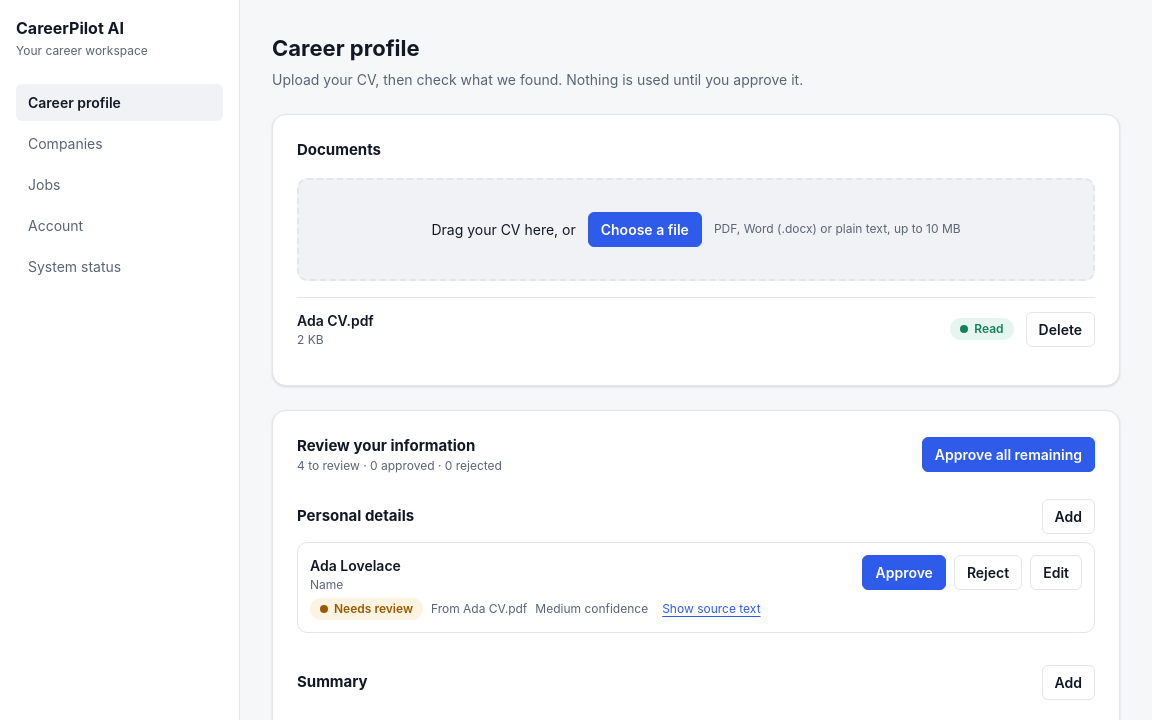
Test: career profile: review › approves everything remaining in one request
Click the button "Approve all remaining" at point(1008, 455), box x1=922 y1=437 x2=1095 y2=472
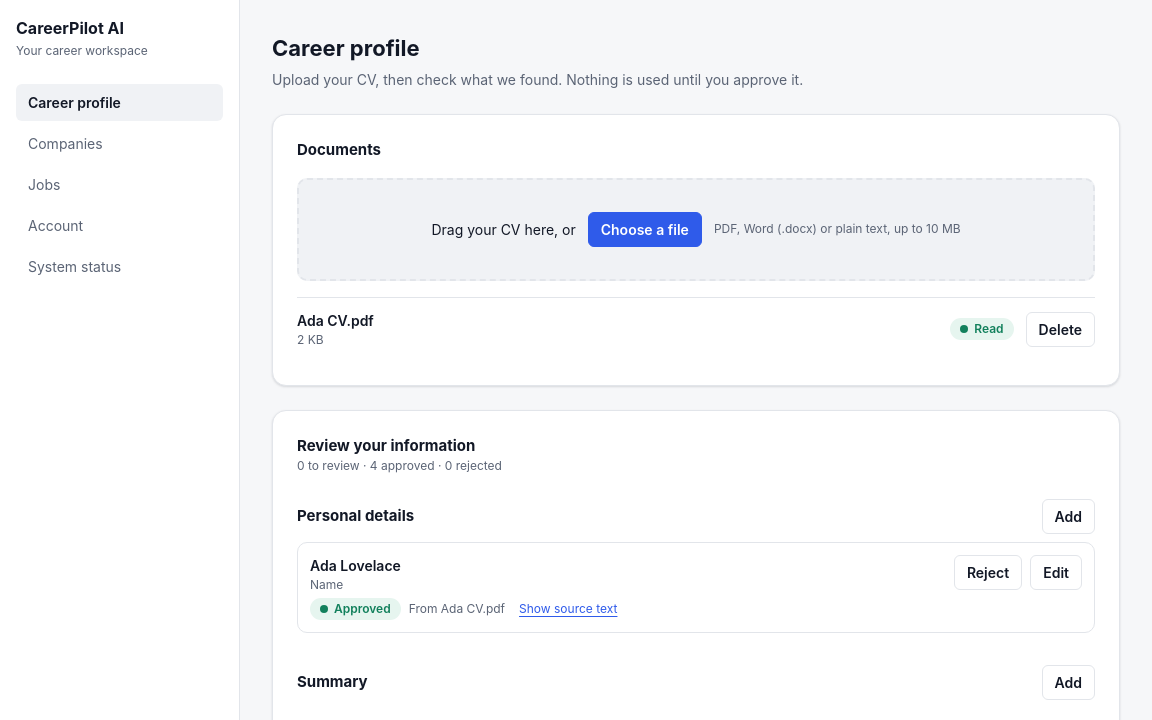
Expected: the text with test id "review-counts" shows "0 to review · 4 approved", x1=297 y1=458 x2=502 y2=473
